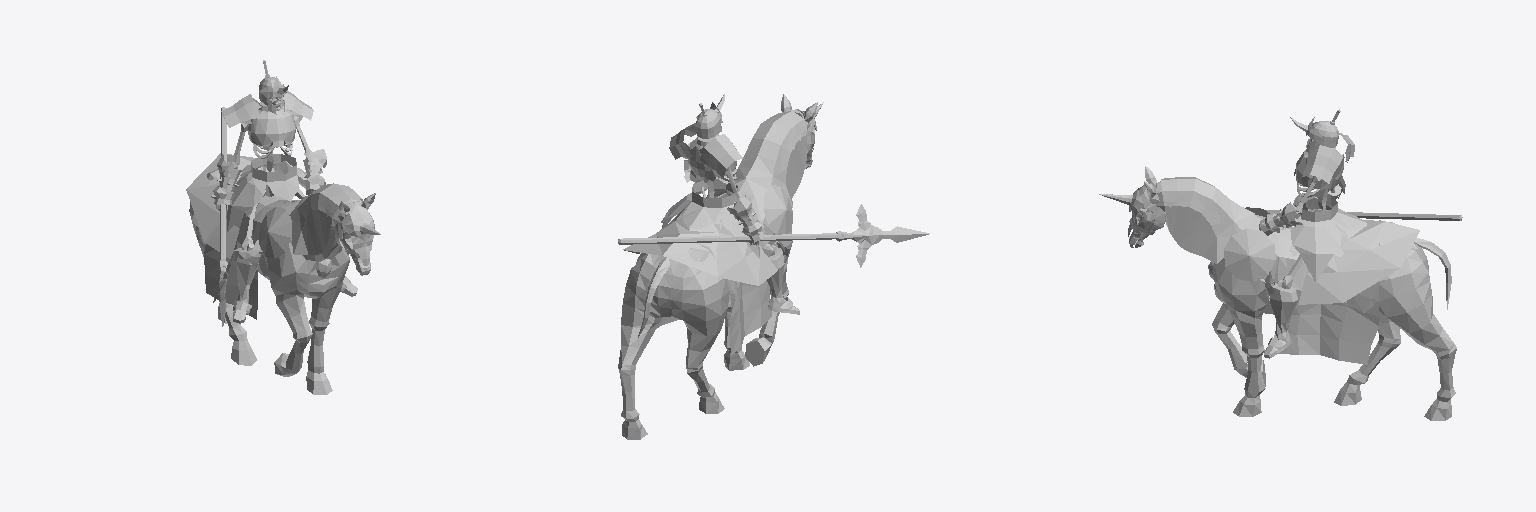
The model's file is ghost_rider.obj.
3 renders of one model, left to right at view 1: azimuth 30°, elevation 25°; view 2: azimuth 150°, elevation 25°; view 3: azimuth 270°, elevation 25°, orthographic.
Visible parts, largest first — view 1: ghost_rider_horse-mesh, ghost_rider-mesh, ghost_rider01-mesh, ghost_rider_weapon-mesh, b_parts_04-mesh, b_parts_01-mesh, b_parts_02-mesh; view 2: ghost_rider_horse-mesh, ghost_rider01-mesh, ghost_rider-mesh, ghost_rider_weapon-mesh, b_parts_04-mesh, b_parts_01-mesh, b_parts_03-mesh; view 3: ghost_rider_horse-mesh, ghost_rider01-mesh, ghost_rider-mesh, b_parts_03-mesh, b_parts_01-mesh, ghost_rider_weapon-mesh.
Boxes of the visible parts, box(x1,y1,x2,y2) form: ghost_rider_horse-mesh: box(189, 168, 375, 394); ghost_rider-mesh: box(211, 102, 357, 323); ghost_rider01-mesh: box(186, 153, 306, 258); ghost_rider_weapon-mesh: box(213, 107, 232, 326); b_parts_04-mesh: box(221, 94, 261, 127); b_parts_01-mesh: box(259, 60, 288, 114); b_parts_02-mesh: box(345, 215, 380, 240); ghost_rider_horse-mesh: box(618, 94, 817, 439); ghost_rider01-mesh: box(623, 179, 777, 285); ghost_rider-mesh: box(684, 134, 799, 314); ghost_rider_weapon-mesh: box(618, 204, 929, 267); b_parts_04-mesh: box(699, 134, 744, 177); b_parts_01-mesh: box(696, 94, 724, 138); b_parts_03-mesh: box(669, 123, 696, 159); ghost_rider_horse-mesh: box(1128, 166, 1456, 420); ghost_rider01-mesh: box(1283, 192, 1419, 304); ghost_rider-mesh: box(1259, 147, 1345, 358); b_parts_03-mesh: box(1302, 144, 1344, 190); b_parts_01-mesh: box(1290, 109, 1340, 152); ghost_rider_weapon-mesh: box(1243, 207, 1462, 220).
Bounding box in the file's own units: 216 × 345 × 346.